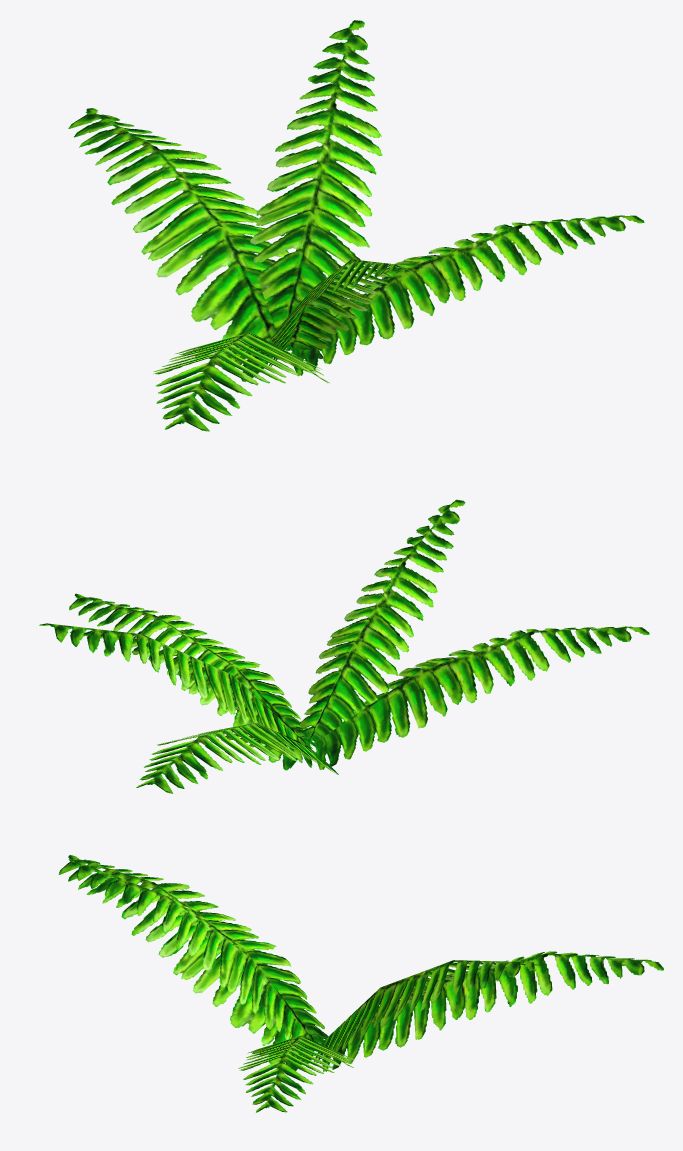
The model's file is INST_EKH_FERN_PLANT_01.fbx.
3 views of the same model, one above another, from view 1: azimuth 30°, elevation 25°; view 2: azimuth 150°, elevation 25°; view 3: azimuth 270°, elevation 25° (orthographic). The views are drawn at different scales.
Visible parts, largest first — view 1: INST_EKH_FERN_PLANT_01; view 2: INST_EKH_FERN_PLANT_01; view 3: INST_EKH_FERN_PLANT_01.
Boxes of the visible parts, left/top/right/bottom form: INST_EKH_FERN_PLANT_01: left=68, top=20, right=644, bottom=431; INST_EKH_FERN_PLANT_01: left=39, top=499, right=649, bottom=793; INST_EKH_FERN_PLANT_01: left=58, top=855, right=663, bottom=1112.
Size of the model in its own units: 9609 by 3295 by 9855.
Materials: 1 (1 with a texture image).
